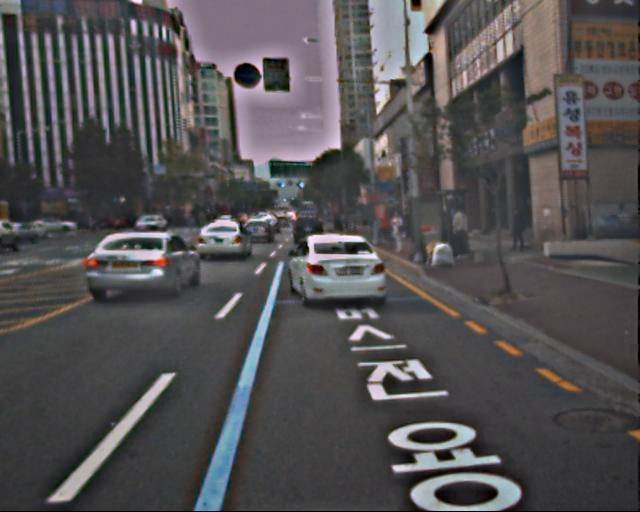person: (449, 204, 473, 262), (389, 209, 408, 256), (508, 208, 527, 255)
